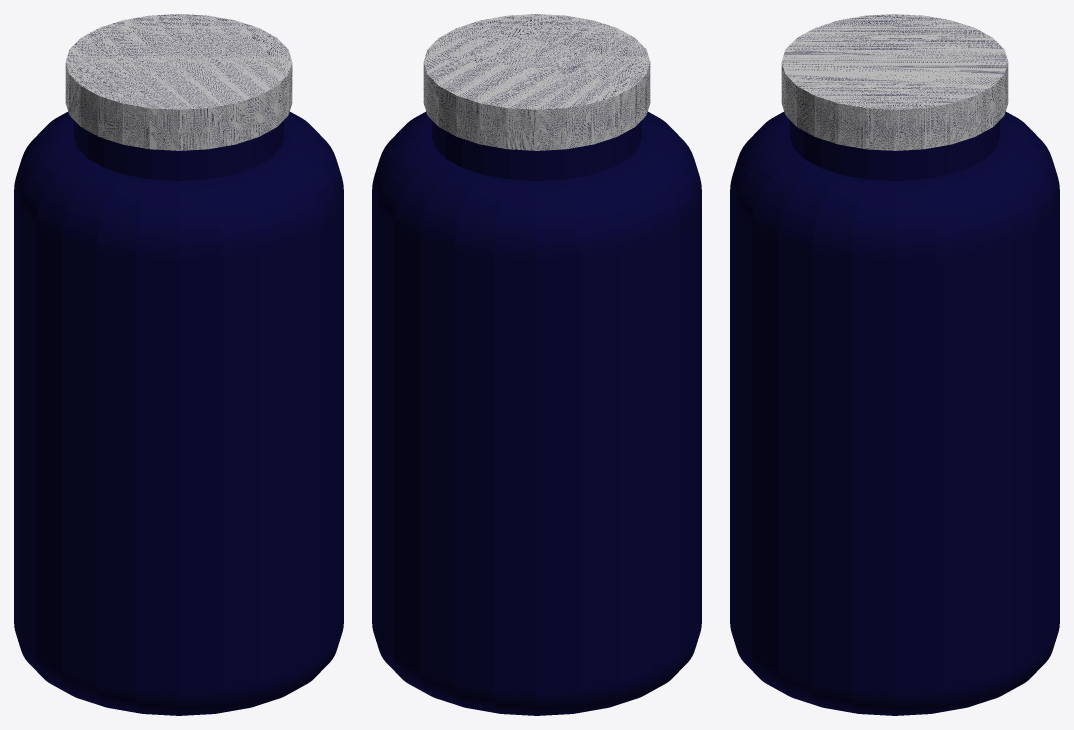
3 renders of one model, left to right at view 1: azimuth 30°, elevation 25°; view 2: azimuth 150°, elevation 25°; view 3: azimuth 270°, elevation 25°, orthographic.
Parts seen in each view (by area): view 1: mesh1_mesh1-geometry; view 2: mesh1_mesh1-geometry; view 3: mesh1_mesh1-geometry.
Part boxes in pixels (x1,y1,x2,y2): mesh1_mesh1-geometry: (14,14,343,715); mesh1_mesh1-geometry: (372,14,701,715); mesh1_mesh1-geometry: (730,14,1059,715).
Bounding box in the file's own units: 0.4082 × 0.8165 × 0.4082.
